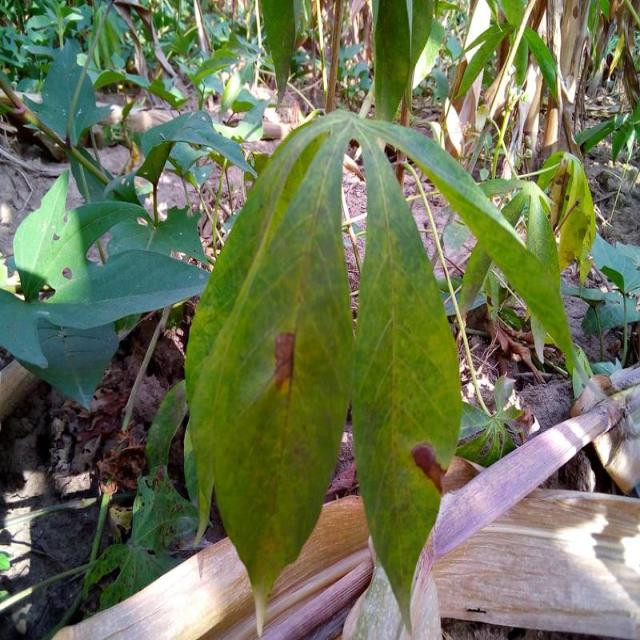cassava leaf: (182, 106, 583, 634), (182, 110, 356, 635), (348, 116, 464, 634), (0, 166, 211, 411)
